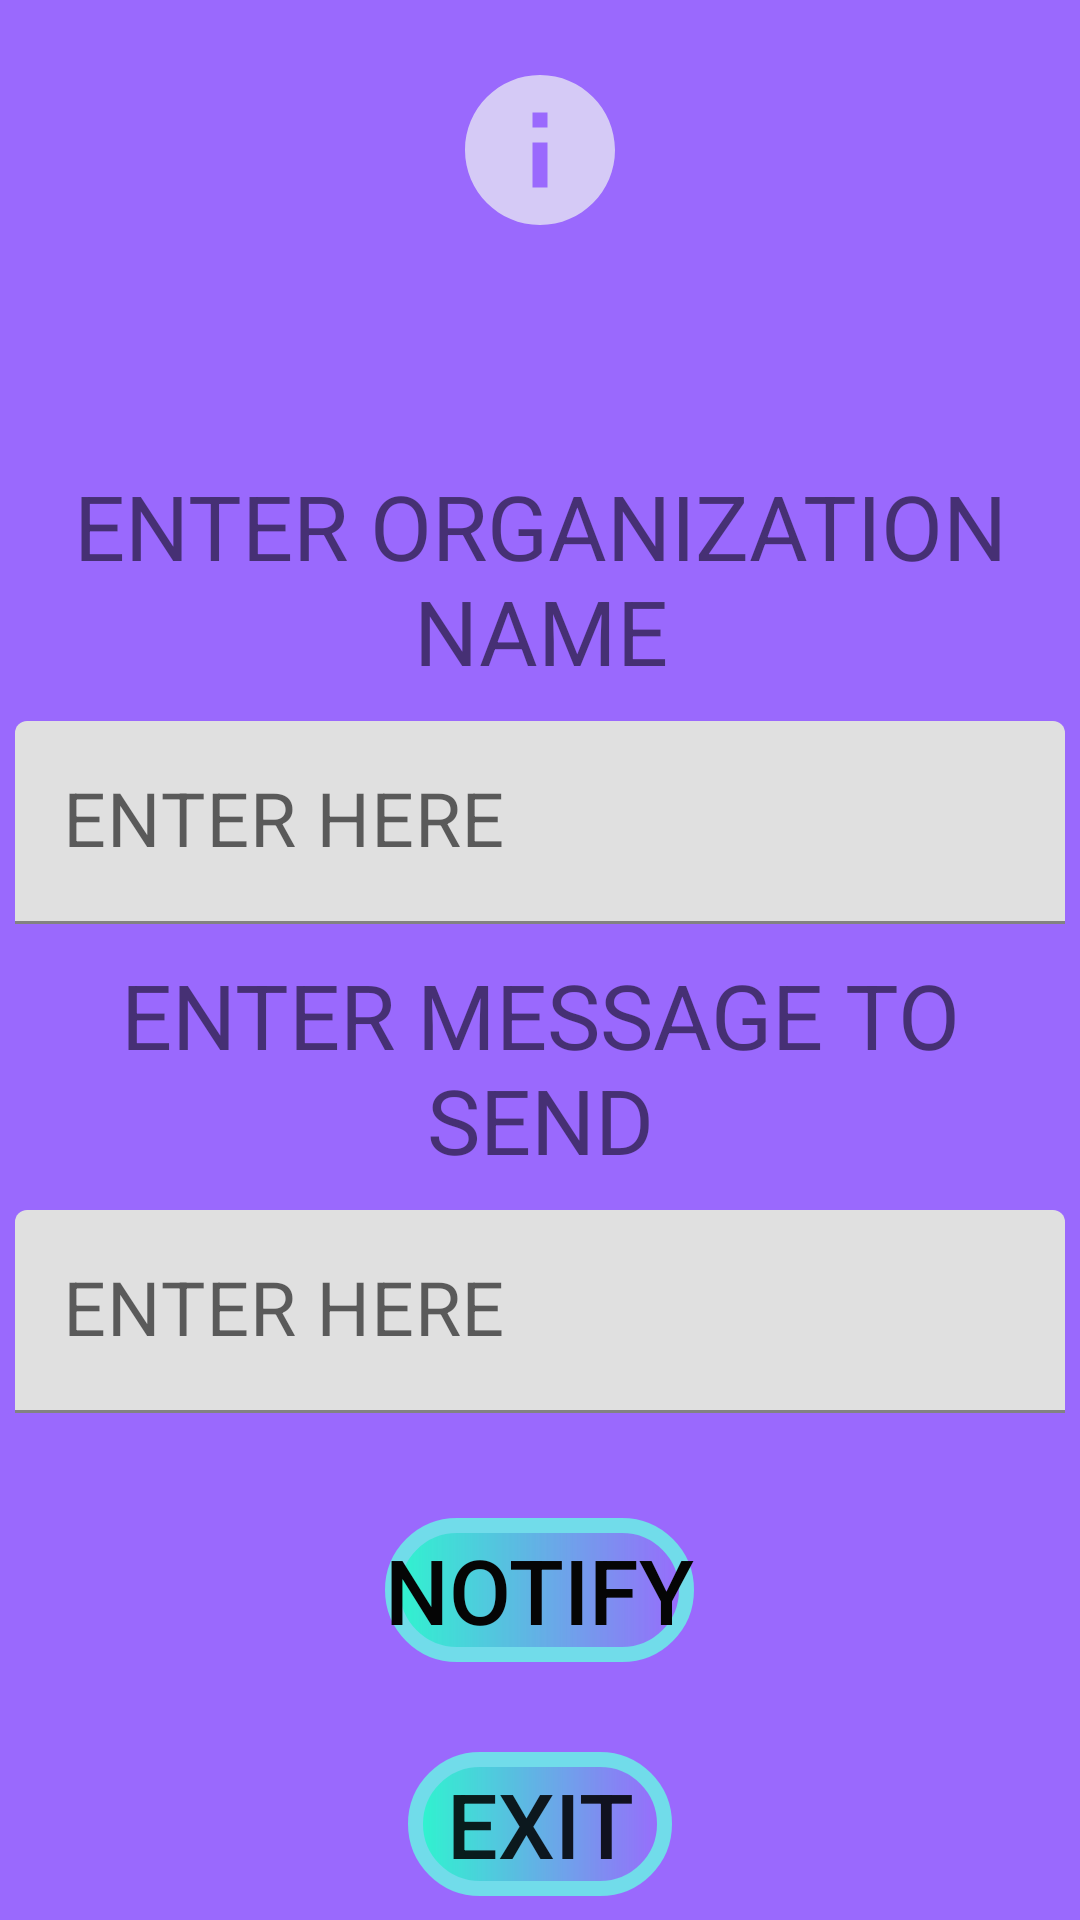

Icon bounding boxes for this 1080 x 1920 phone screenshot, format (x1, y1, x2, y2):
info: (465, 75, 615, 225)
